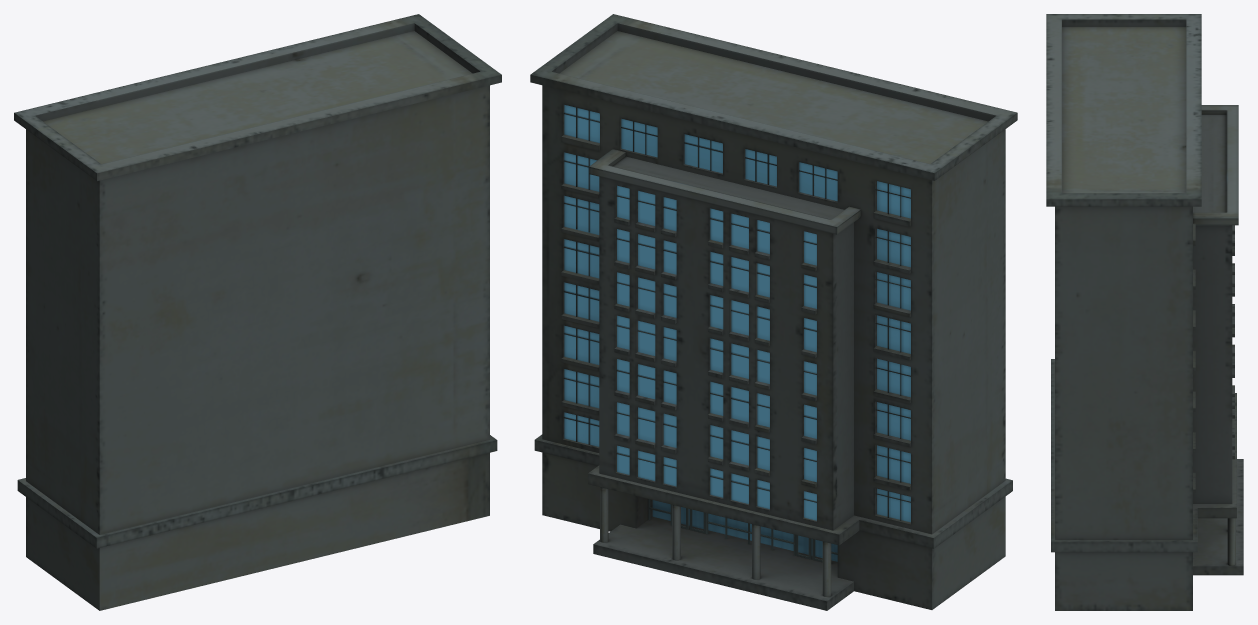
The model's file is urban-office.glb.
3 views of the same model, side by side, from view 1: azimuth 30°, elevation 25°; view 2: azimuth 150°, elevation 25°; view 3: azimuth 270°, elevation 25° (orthographic). The views are drawn at different scales.
Visible parts, largest first — view 1: Complete PBR urban office; view 2: Complete PBR urban office; view 3: Complete PBR urban office.
Boxes of the visible parts, bbox=[...] form: Complete PBR urban office: bbox=[14, 14, 501, 610]; Complete PBR urban office: bbox=[530, 14, 1017, 610]; Complete PBR urban office: bbox=[1046, 14, 1243, 610].
Size of the model in its own units: 27.56 by 28.8 by 12.42.
Materials: 1 (1 with a texture image).
